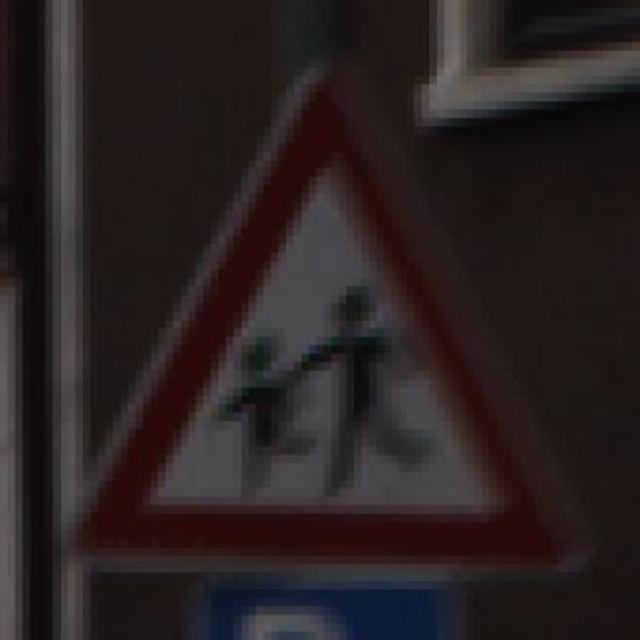Beware of children: (68, 41, 580, 598)
